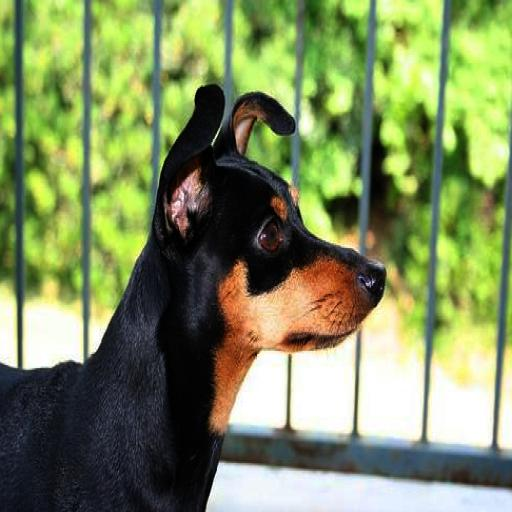dog_face: (156, 81, 381, 358)
